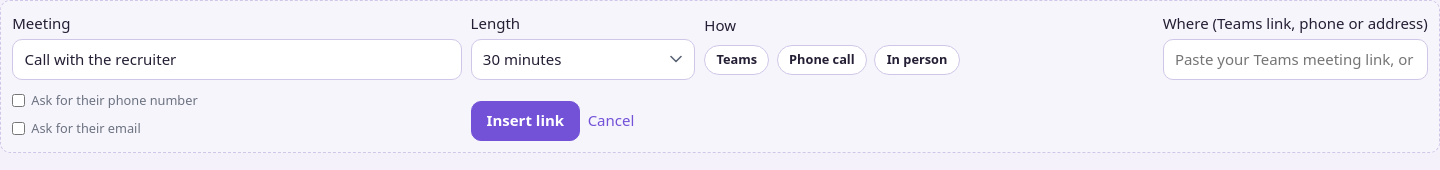
Test: booking link in an email › Teams starts the place for the meeting link
Click the button "Teams" at (737, 60), box top-left (704, 45), bottom-right (769, 75)
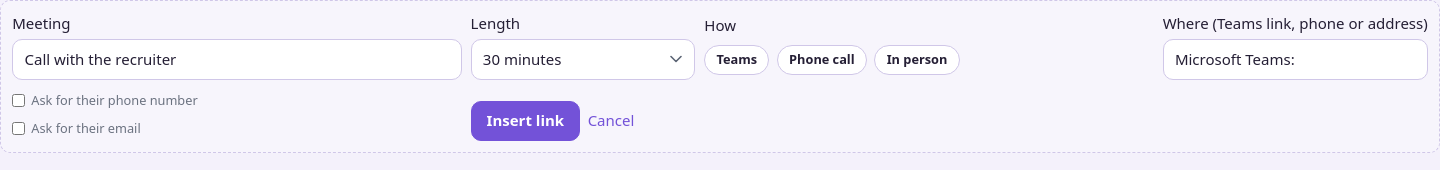
Expected: the checkbox labelled "Ask for their phone number" is not checked, top-left (12, 93), bottom-right (25, 108)
Expected: the field labelled "Where (Teams link, phone or address)" holds "Microsoft Teams: ", top-left (1163, 39), bottom-right (1428, 80)
